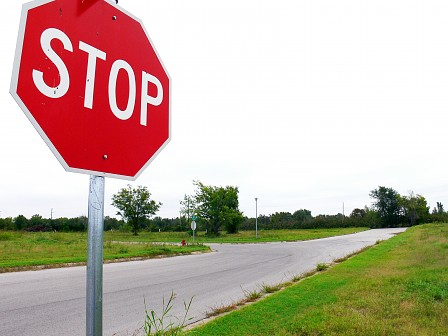stopsign: (14, 1, 171, 180)
